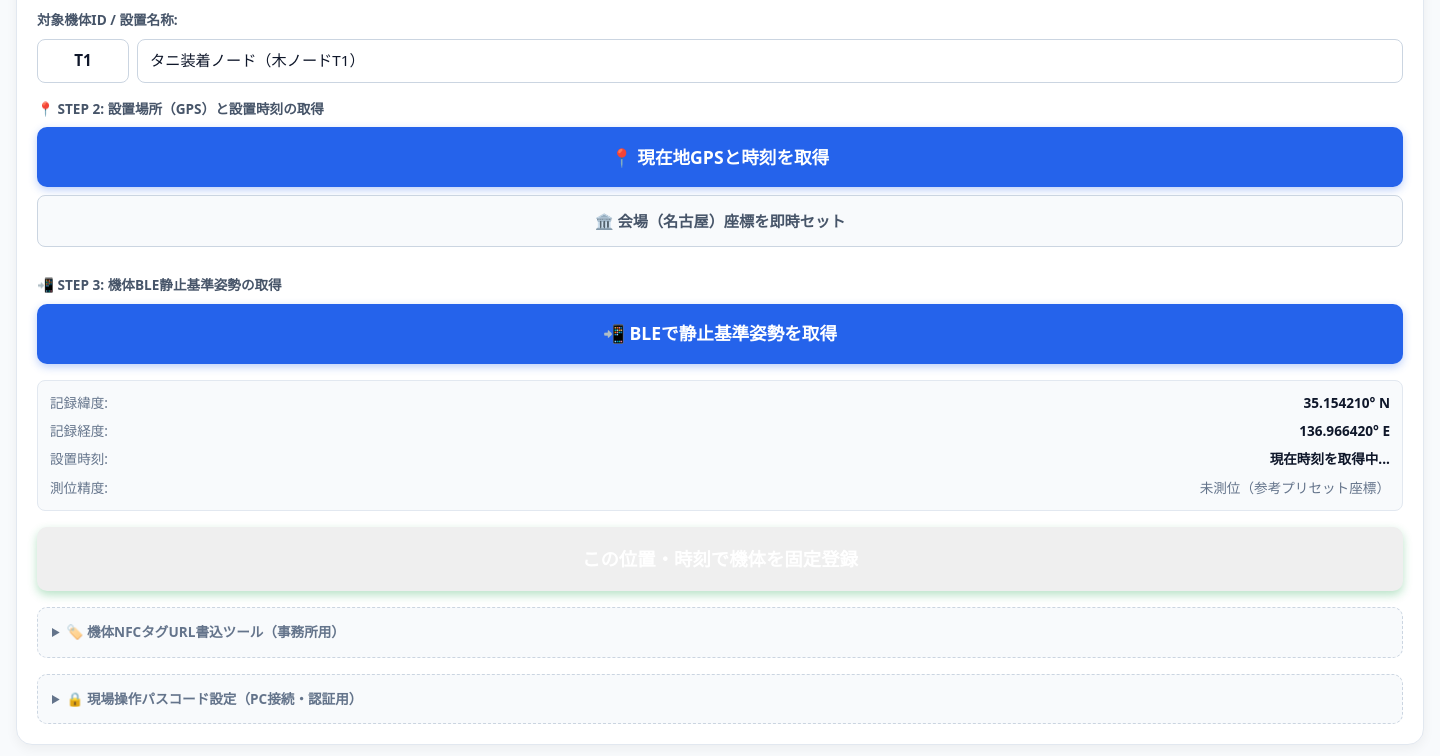
MobileHome › 圏外保存時に localStorage.setItem が例外を投げた場合は保存成功と表示せず警告を出す (Issue #30)
The width and height of the screenshot is (1440, 756).
(page scrolled)
Click the button "この位置・時刻で機体を固定登録" at [720, 559], box [37,527,1403,591]
(page scrolled)
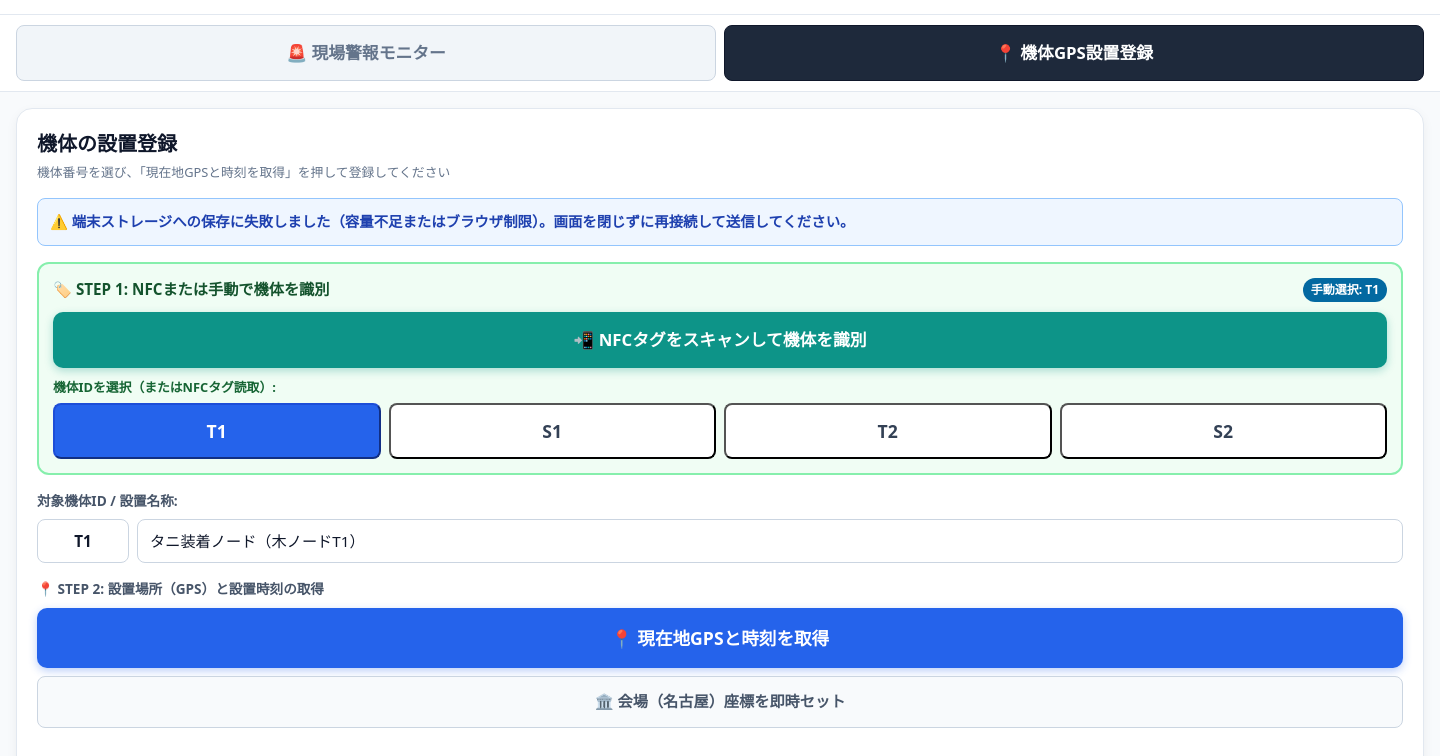
Check: the text "⚠️ 端末ストレージへの保存に失敗しました（容量不足またはブラウザ制限）。画面を閉じずに再接続して送信してください。" is shown, box [37,198,1403,246]
